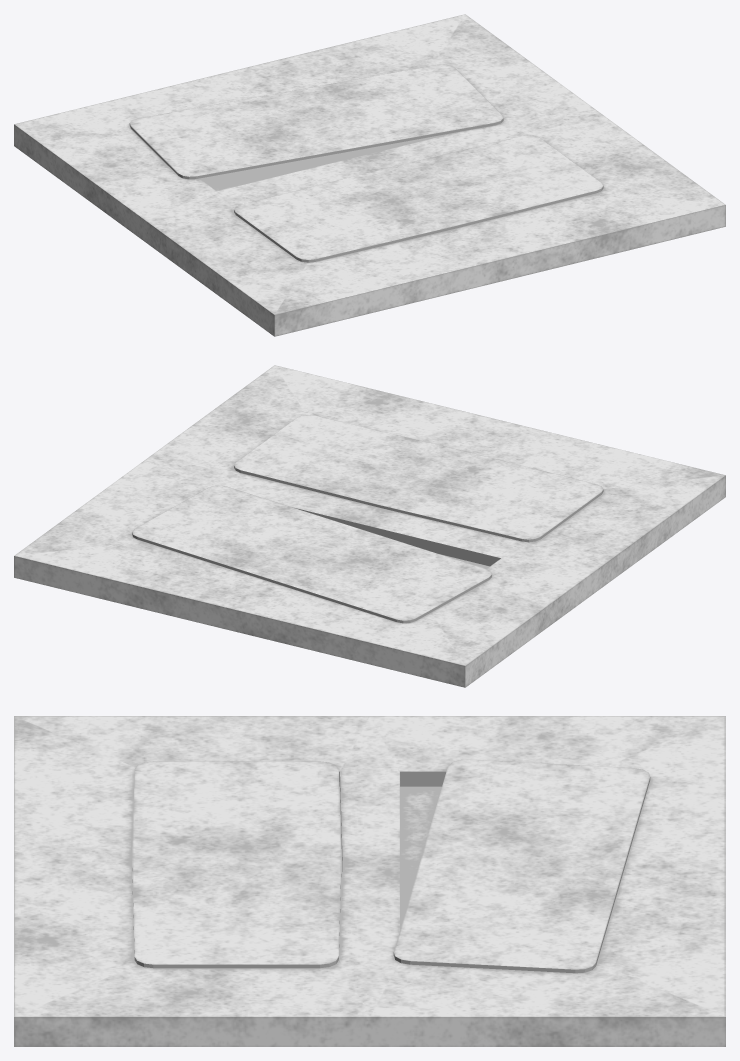
Rendered from Modular_Dungeon_Floor_basic_B.fbx.
3 renders of one model, top to bottom at view 1: azimuth 30°, elevation 25°; view 2: azimuth 150°, elevation 25°; view 3: azimuth 270°, elevation 25°, orthographic. The views are drawn at different scales.
Parts seen in each view (by area): view 1: Bodenplatte_Scheppdeckel_lo; view 2: Bodenplatte_Scheppdeckel_lo; view 3: Bodenplatte_Scheppdeckel_lo.
Boxes of the visible parts, x1,y1,x2,y2 form: Bodenplatte_Scheppdeckel_lo: (14, 14, 725, 336); Bodenplatte_Scheppdeckel_lo: (14, 365, 725, 687); Bodenplatte_Scheppdeckel_lo: (14, 716, 725, 1046).
Size of the model in its own units: 280 by 14.5 by 280.
